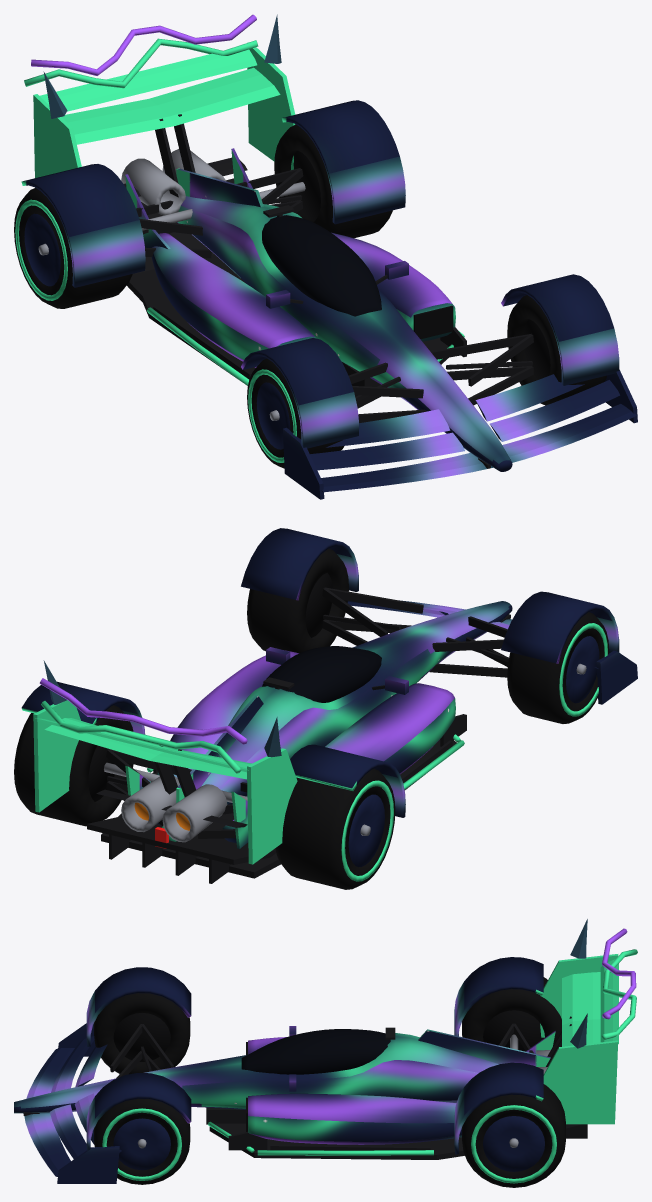
The model's file is tundra_c.fbx.
3 views of the same model, one above another, from view 1: azimuth 30°, elevation 25°; view 2: azimuth 150°, elevation 25°; view 3: azimuth 270°, elevation 25° (orthographic). The views are drawn at different scales.
Parts seen in each view (by area): view 1: Body, Trim, Glass, Wheel_RL, Glow, Wheel_RR, Wheel_FL, Wheel_FR; view 2: Body, Trim, Wheel_RL, Wheel_FL, Wheel_FR, Wheel_RR, Glass, Glow; view 3: Body, Wheel_RR, Trim, Wheel_FR, Glass, Wheel_FL, Wheel_RL, Glow.
Boxes of the visible parts, bbox=[...] form: Body: bbox=[21, 42, 637, 499]; Trim: bbox=[121, 114, 533, 468]; Glass: bbox=[43, 14, 381, 316]; Wheel_RL: bbox=[14, 188, 132, 308]; Glow: bbox=[24, 14, 464, 385]; Wheel_RR: bbox=[274, 124, 392, 238]; Wheel_FL: bbox=[247, 358, 344, 468]; Wheel_FR: bbox=[507, 295, 606, 405]; Body: bbox=[21, 528, 637, 864]; Trim: bbox=[87, 587, 510, 883]; Wheel_RL: bbox=[275, 768, 395, 889]; Wheel_FL: bbox=[507, 612, 609, 723]; Wheel_FR: bbox=[247, 548, 348, 653]; Wheel_RR: bbox=[14, 705, 133, 826]; Glass: bbox=[43, 646, 381, 757]; Glow: bbox=[39, 678, 464, 848]; Body: bbox=[14, 954, 618, 1183]; Wheel_RR: bbox=[462, 1084, 565, 1187]; Trim: bbox=[23, 1016, 587, 1159]; Wheel_FR: bbox=[94, 1098, 190, 1184]; Glass: bbox=[241, 919, 587, 1074]; Wheel_FL: bbox=[94, 993, 190, 1074]; Wheel_RL: bbox=[462, 977, 561, 1051]; Glow: bbox=[207, 928, 637, 1155].
Bounding box in the file's own units: 9.91 × 5.5 × 19.47.
Materials: 5 (1 with a texture image).
